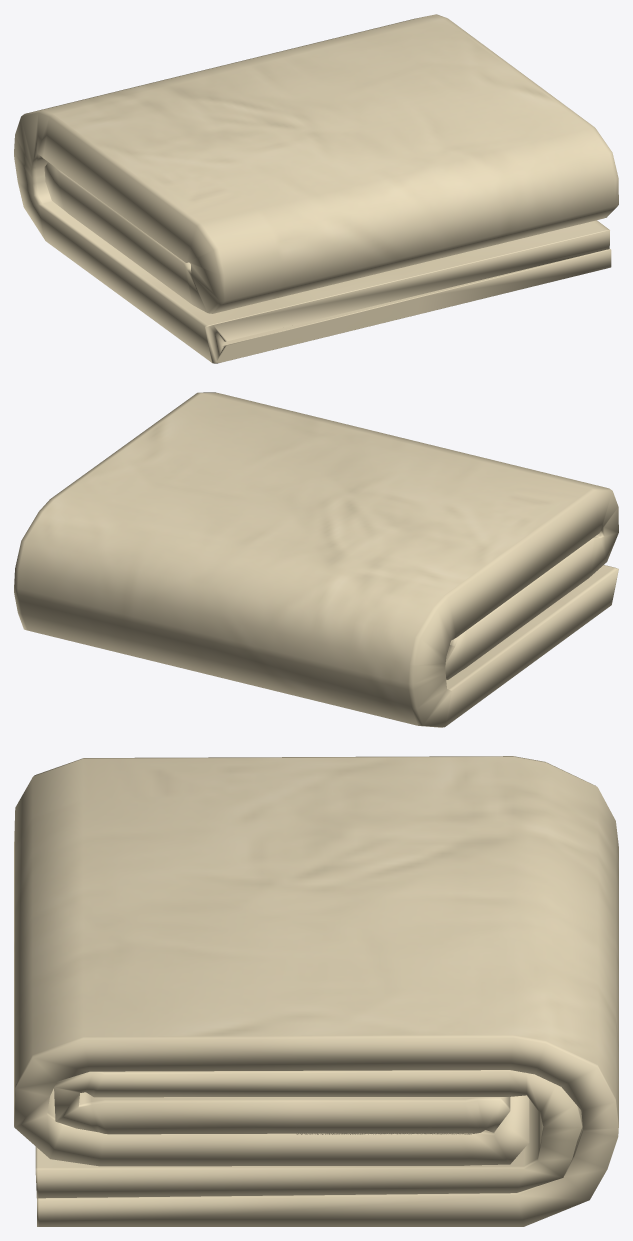
File: 8. N_boles_bedhseet.fbx
3 renders of one model, top to bottom at view 1: azimuth 30°, elevation 25°; view 2: azimuth 150°, elevation 25°; view 3: azimuth 270°, elevation 25°, orthographic. The views are drawn at different scales.
Visible parts, largest first — view 1: 7. N_boles_bedhseet; view 2: 7. N_boles_bedhseet; view 3: 7. N_boles_bedhseet.
Boxes of the visible parts, bbox=[...] form: 7. N_boles_bedhseet: bbox=[14, 14, 618, 363]; 7. N_boles_bedhseet: bbox=[14, 392, 618, 727]; 7. N_boles_bedhseet: bbox=[14, 756, 618, 1226].
Bounding box in the file's own units: 0.3238 × 0.0987 × 0.2857.
